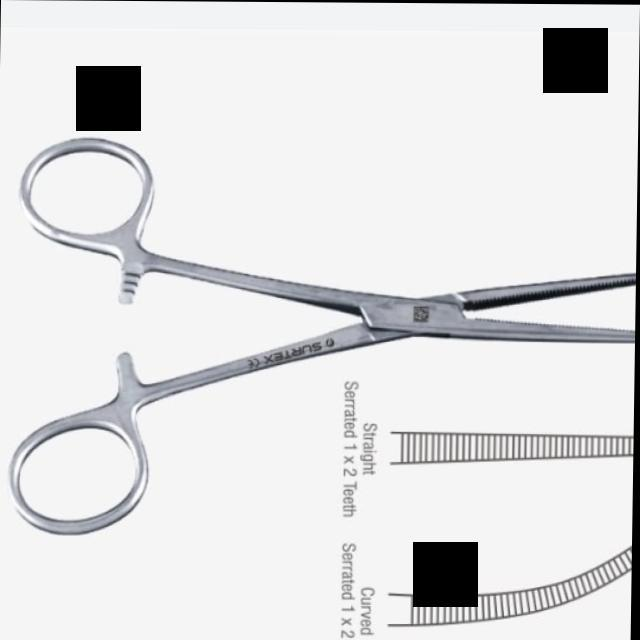Kocher Forceps: (4, 138, 638, 538)
